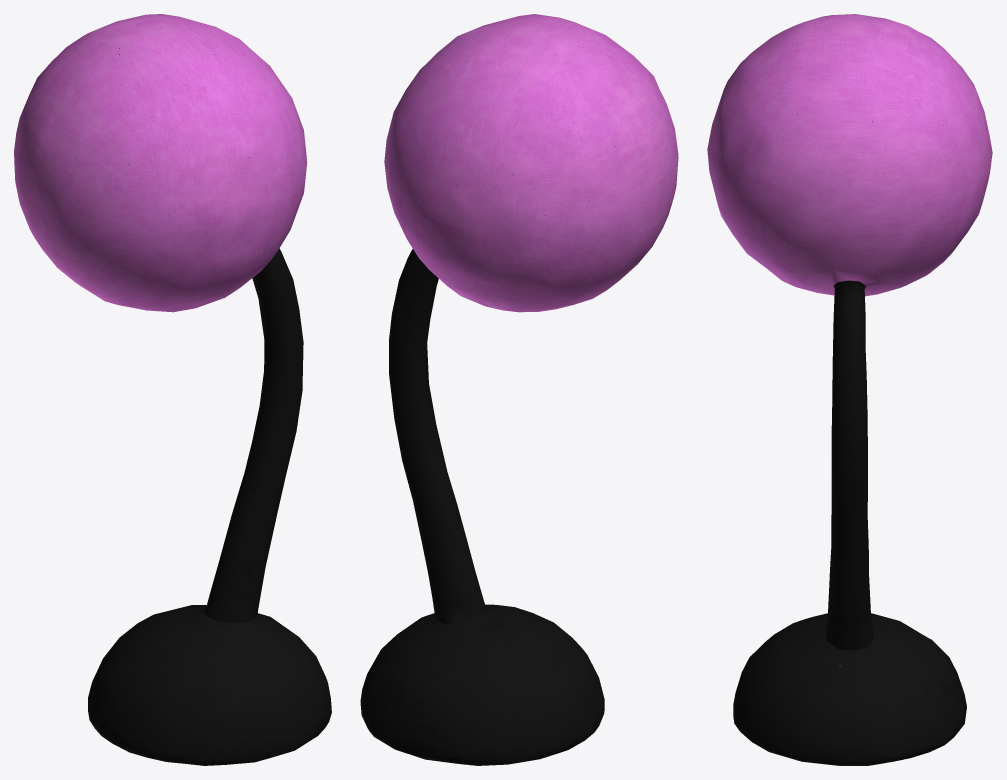
Rendered from antenna.glb.
The picture shows the model from 3 angles, left to right: view 1: azimuth 30°, elevation 25°; view 2: azimuth 150°, elevation 25°; view 3: azimuth 270°, elevation 25°; orthographic projection. The views are drawn at different scales.
Parts seen in each view (by area): view 1: world; view 2: world; view 3: world.
Boxes of the visible parts, bbox=[...] form: world: bbox=[14, 14, 331, 765]; world: bbox=[360, 14, 678, 765]; world: bbox=[707, 14, 992, 765].
Size of the model in its own units: 0.4202 by 1 by 0.3863.
Materials: 1 (1 with a texture image).
